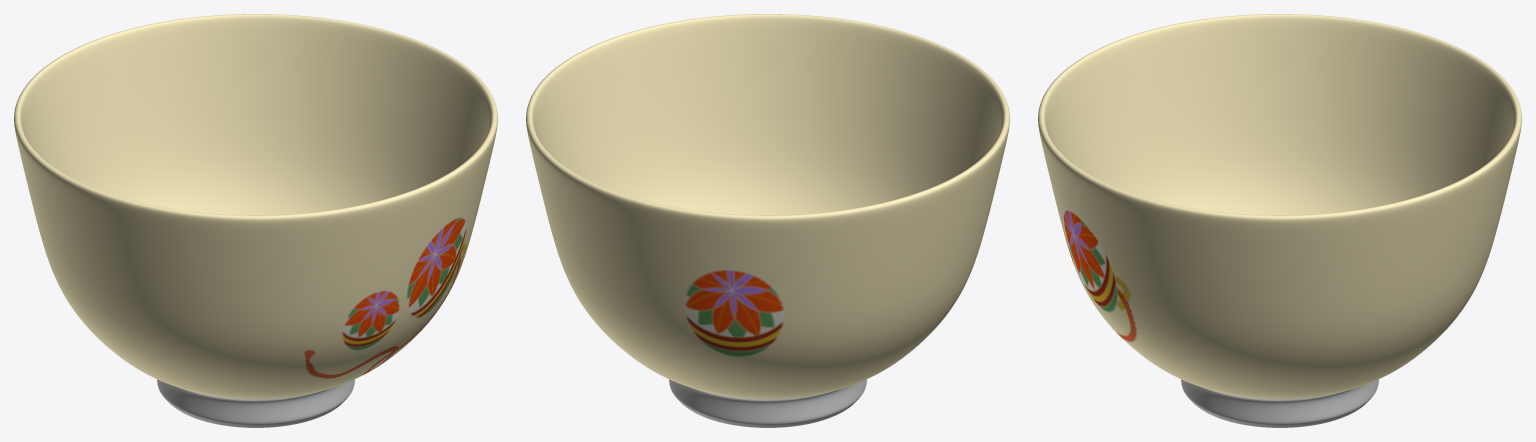
Rendered from obj_tea_bowl_a670a1.glb.
3 views of the same model, side by side, from view 1: azimuth 30°, elevation 25°; view 2: azimuth 150°, elevation 25°; view 3: azimuth 270°, elevation 25° (orthographic).
Parts seen in each view (by area): view 1: obj_tea_bowl_a670a1; view 2: obj_tea_bowl_a670a1; view 3: obj_tea_bowl_a670a1.
Boxes of the visible parts, x1,y1,x2,y2 form: obj_tea_bowl_a670a1: [14, 14, 497, 427]; obj_tea_bowl_a670a1: [526, 14, 1009, 427]; obj_tea_bowl_a670a1: [1038, 14, 1521, 427].
Size of the model in its own units: 0.1599 by 0.1 by 0.1599.
2 materials, 1 textured.
